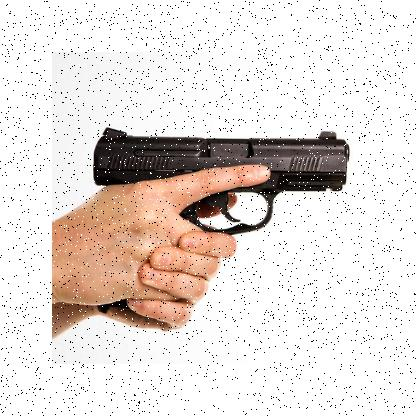gun: (91, 128, 349, 314)
